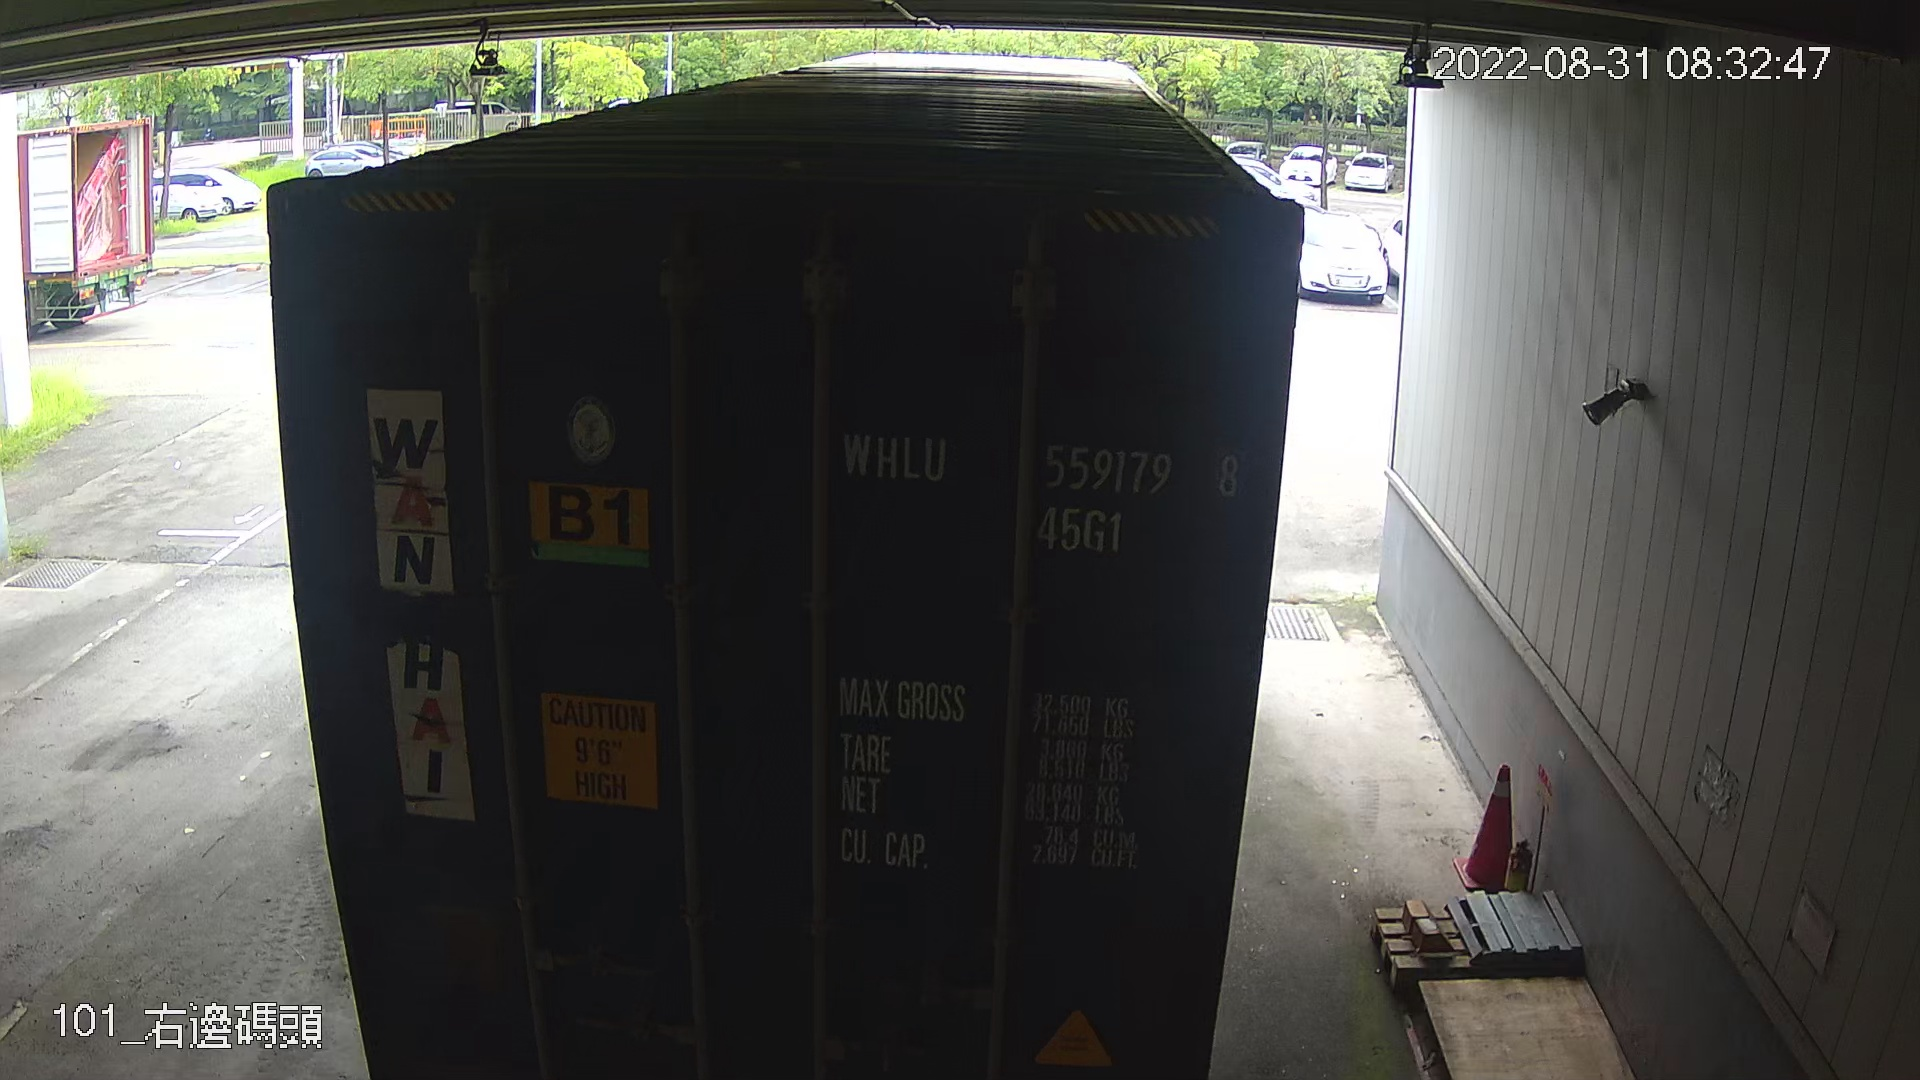container: (992, 140, 1102, 186)
